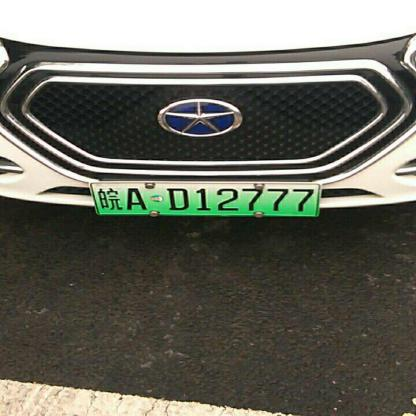lp: (90, 183, 320, 215)
